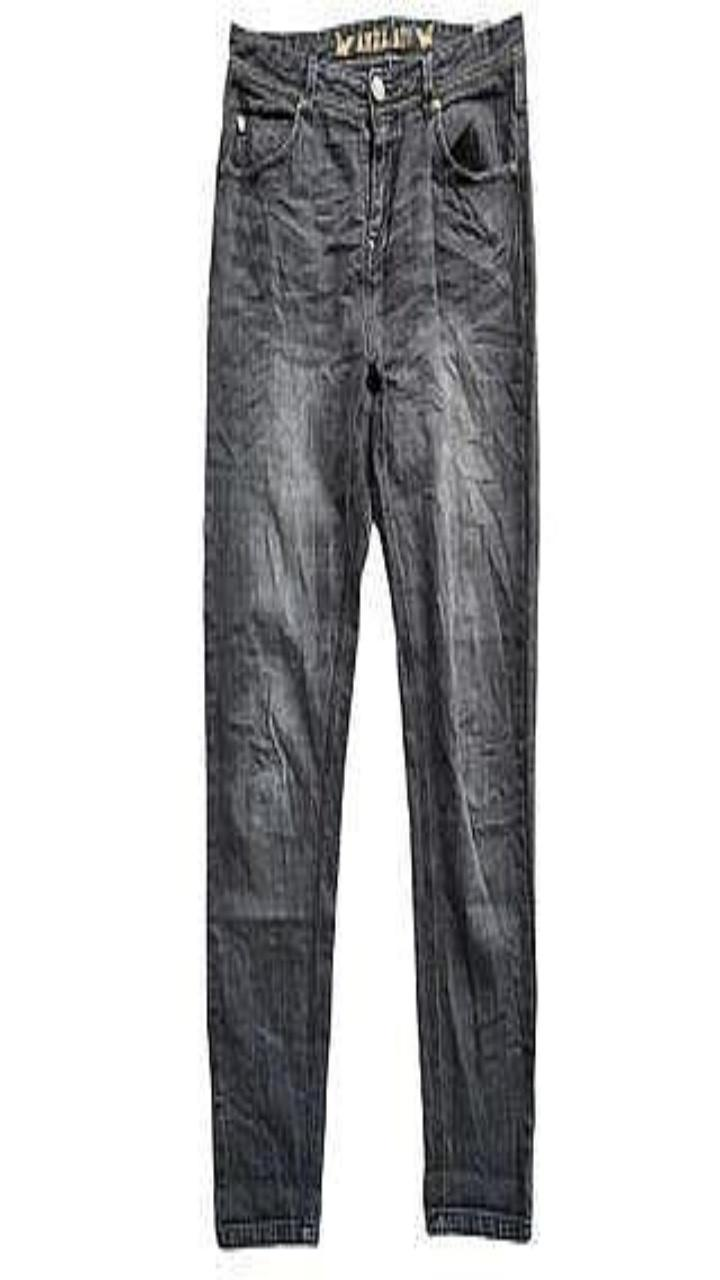Jeans: (204, 15, 537, 1245)
